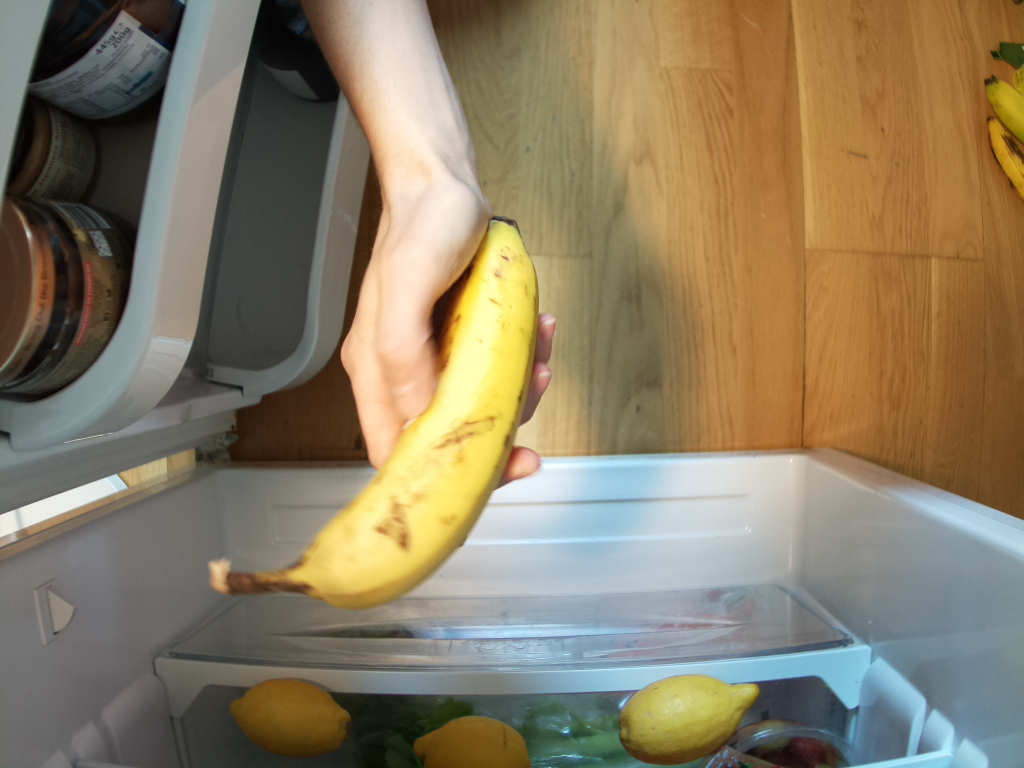banana: (217, 208, 547, 614)
